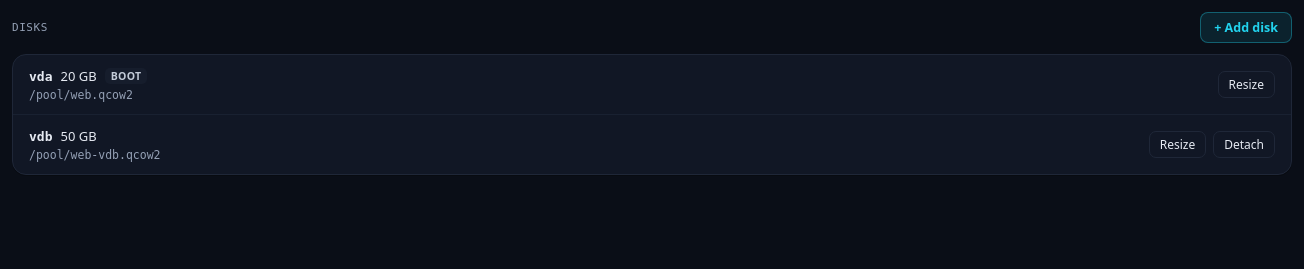
Test: DisksPanel › states that the guest filesystem is not grown with the disk
Click the button "Resize" in the row of "BOOT" at (1246, 84), box [1218,71,1275,98]
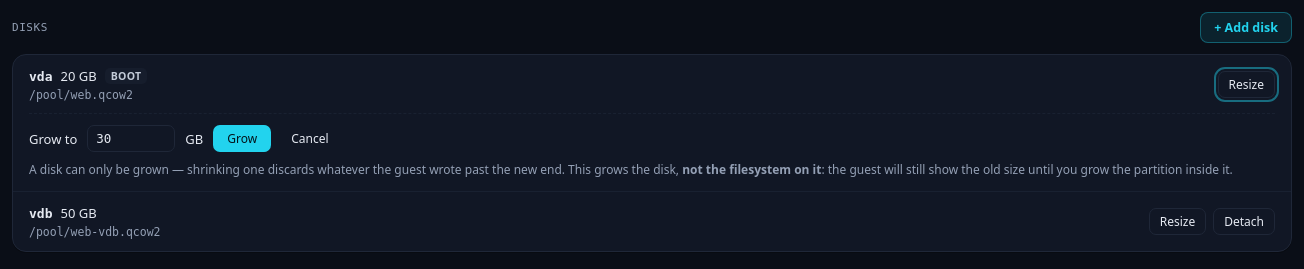
Now the text "not the filesystem on it" is shown, box [682,161,822,178]
Now the text "grow the partition inside it" is shown, box [822,161,1233,178]
